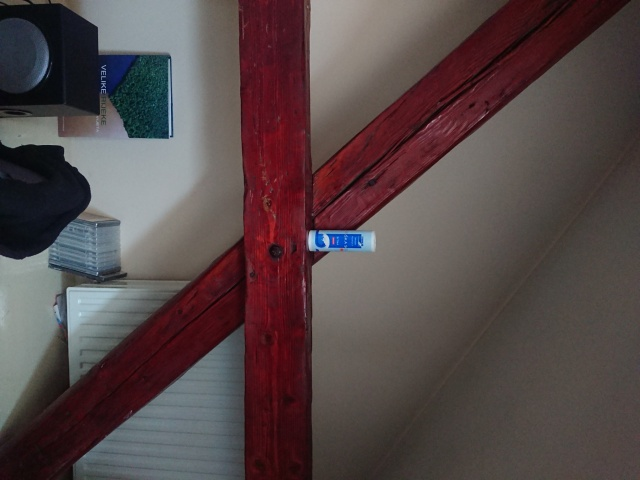Solana Pag Fine Sea Salt 250g: (306, 227, 379, 254)
